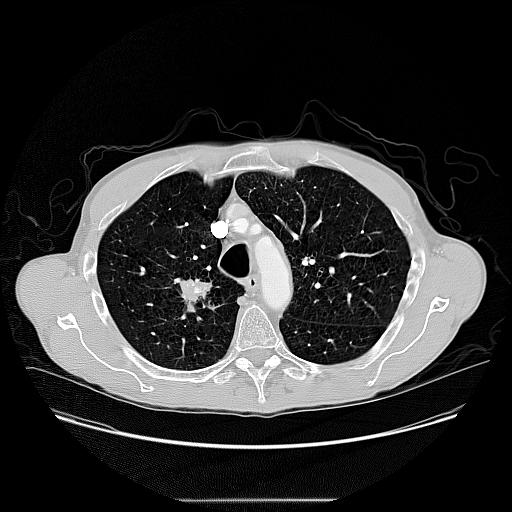nodule: (177, 274, 211, 308)
